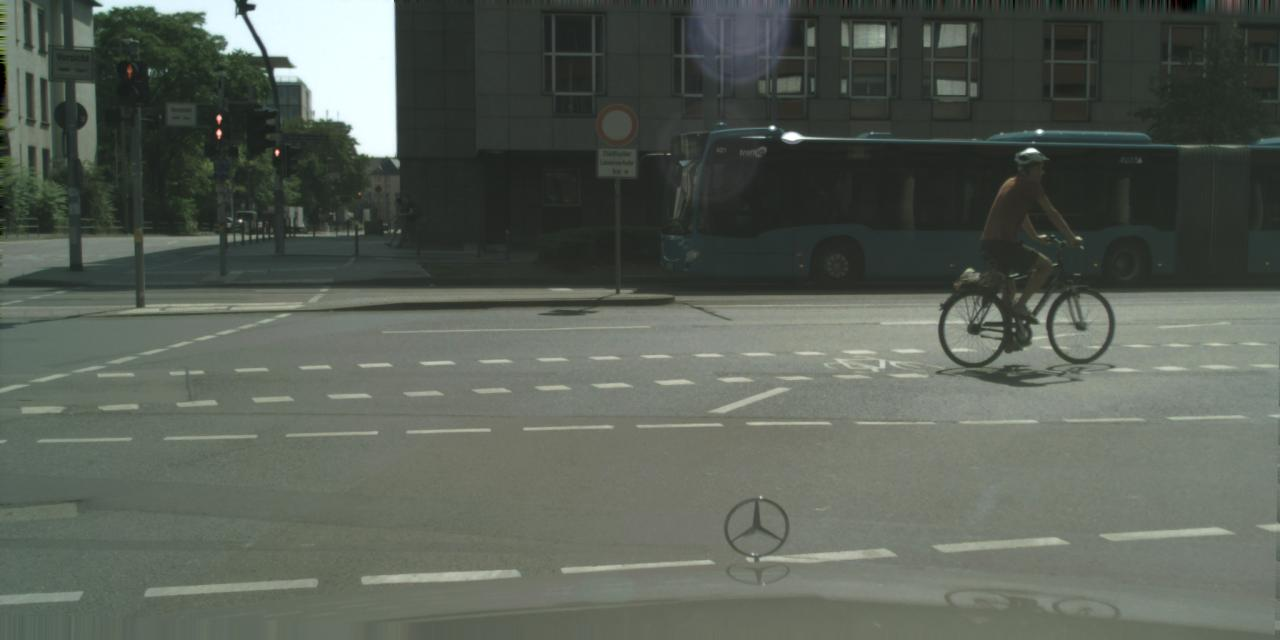ped: (986, 147, 1062, 330), (397, 194, 419, 247), (389, 198, 408, 245)
